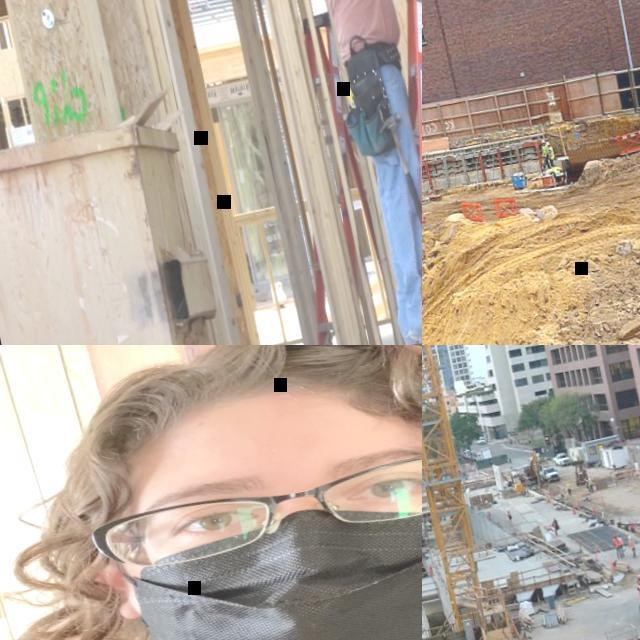helmet: (545, 140, 550, 146), (540, 140, 546, 144), (627, 535, 631, 539), (506, 508, 509, 511)
vest: (546, 146, 554, 160), (542, 145, 548, 155), (612, 538, 618, 548), (628, 540, 634, 548), (616, 538, 622, 546), (566, 483, 570, 489), (428, 568, 432, 574)
